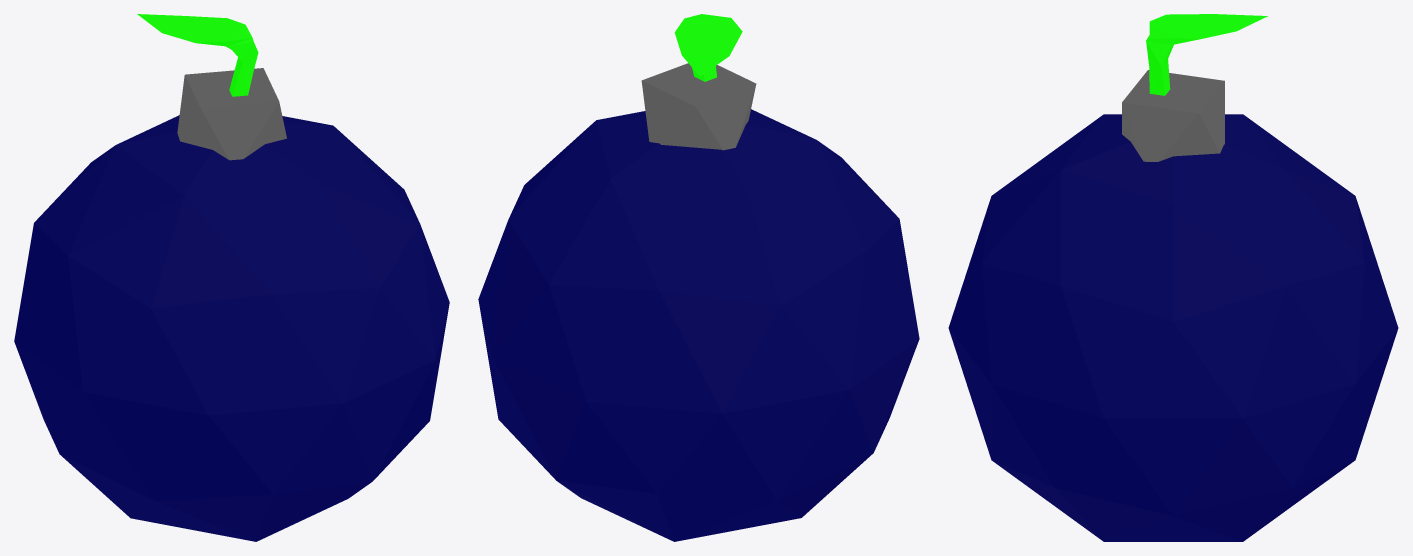
The model's file is vegetal_bomb.glb.
3 views of the same model, side by side, from view 1: azimuth 30°, elevation 25°; view 2: azimuth 150°, elevation 25°; view 3: azimuth 270°, elevation 25° (orthographic).
Parts seen in each view (by area): view 1: Bomb; view 2: Bomb; view 3: Bomb.
Part boxes in pixels (bbox=[...]): Bomb: bbox=[14, 14, 449, 541]; Bomb: bbox=[478, 14, 919, 541]; Bomb: bbox=[948, 14, 1398, 541].
Bounding box in the file's own units: 1.9 × 2.46 × 2.
